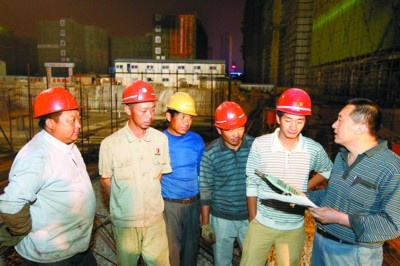none: (330, 95, 384, 150)
red: (33, 86, 81, 143), (276, 88, 313, 139), (121, 80, 156, 129), (213, 100, 246, 144)
yellow: (164, 92, 196, 134)
